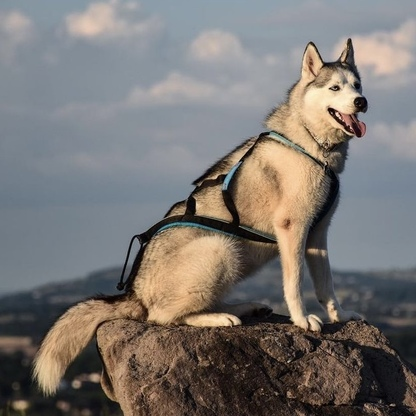husky: (23, 33, 372, 399)
